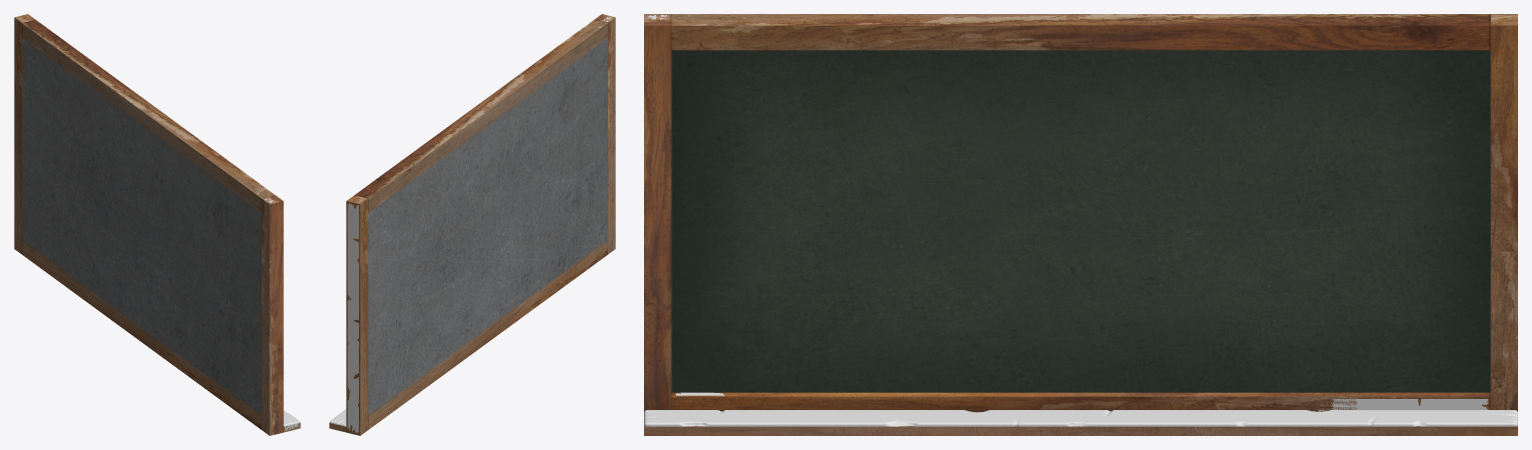
The model's file is BlackBoard.fbx.
The picture shows the model from 3 angles, left to right: view 1: azimuth 30°, elevation 25°; view 2: azimuth 150°, elevation 25°; view 3: azimuth 270°, elevation 25°; orthographic projection. The views are drawn at different scales.
Parts seen in each view (by area): view 1: Blackboard_lp.000; view 2: Blackboard_lp.000, Cube.004; view 3: Blackboard_lp.000, Cube.004.
Boxes of the visible parts, <box> form: Blackboard_lp.000: <box>14,14,300,435</box>; Blackboard_lp.000: <box>329,14,615,435</box>; Cube.004: <box>329,17,611,433</box>; Blackboard_lp.000: <box>644,14,1517,435</box>; Cube.004: <box>644,15,1517,426</box>.
Size of the model in its own units: 1800 by 12800 by 25600.
